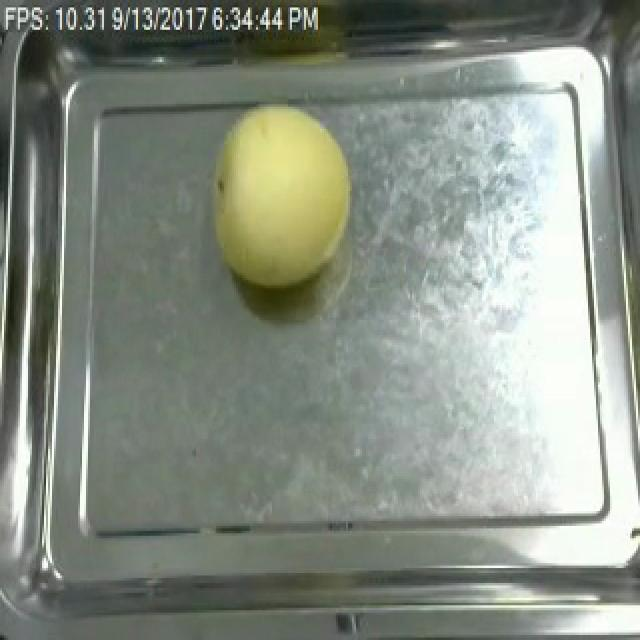Fruit: (204, 96, 362, 292)
